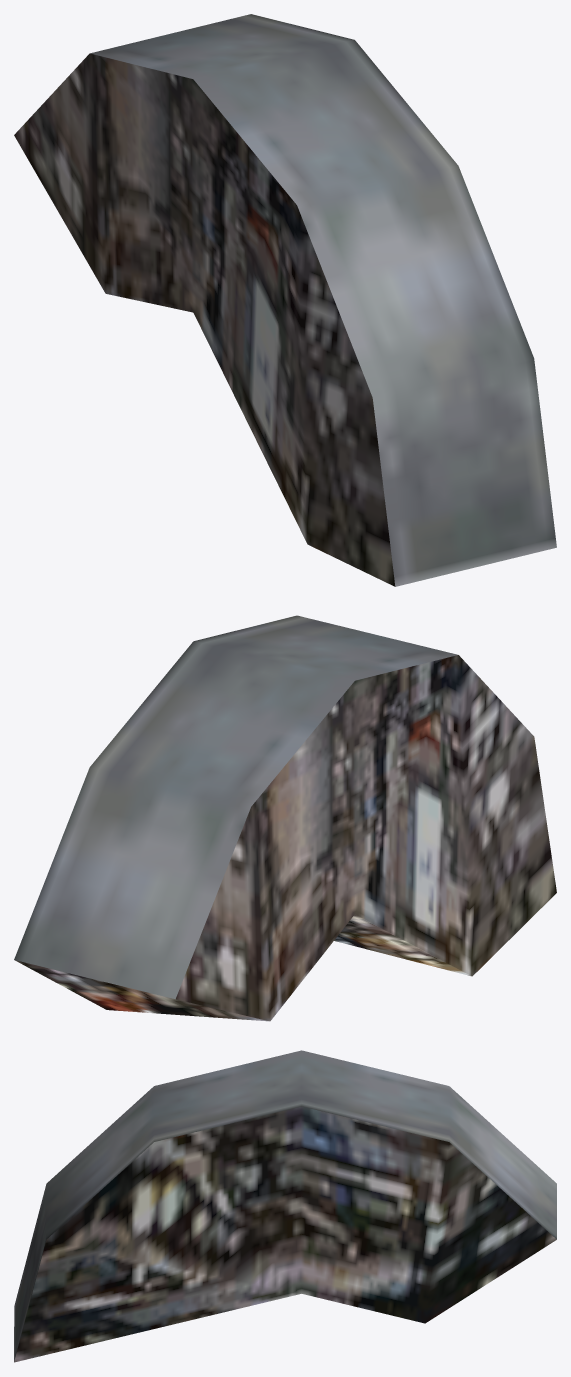
The model's file is tie_fighter_debris_f_l1.fbx.
3 views of the same model, one above another, from view 1: azimuth 30°, elevation 25°; view 2: azimuth 150°, elevation 25°; view 3: azimuth 270°, elevation 25° (orthographic). The views are drawn at different scales.
Parts seen in each view (by area): view 1: mesh_node; view 2: mesh_node; view 3: mesh_node.
Part boxes in pixels (<box>): mesh_node: <box>14,14,556,586</box>; mesh_node: <box>14,615,556,1021</box>; mesh_node: <box>14,1050,556,1362</box>.
Bounding box in the file's own units: 0.157 × 0.3498 × 0.6364.
1 material, 1 textured.
